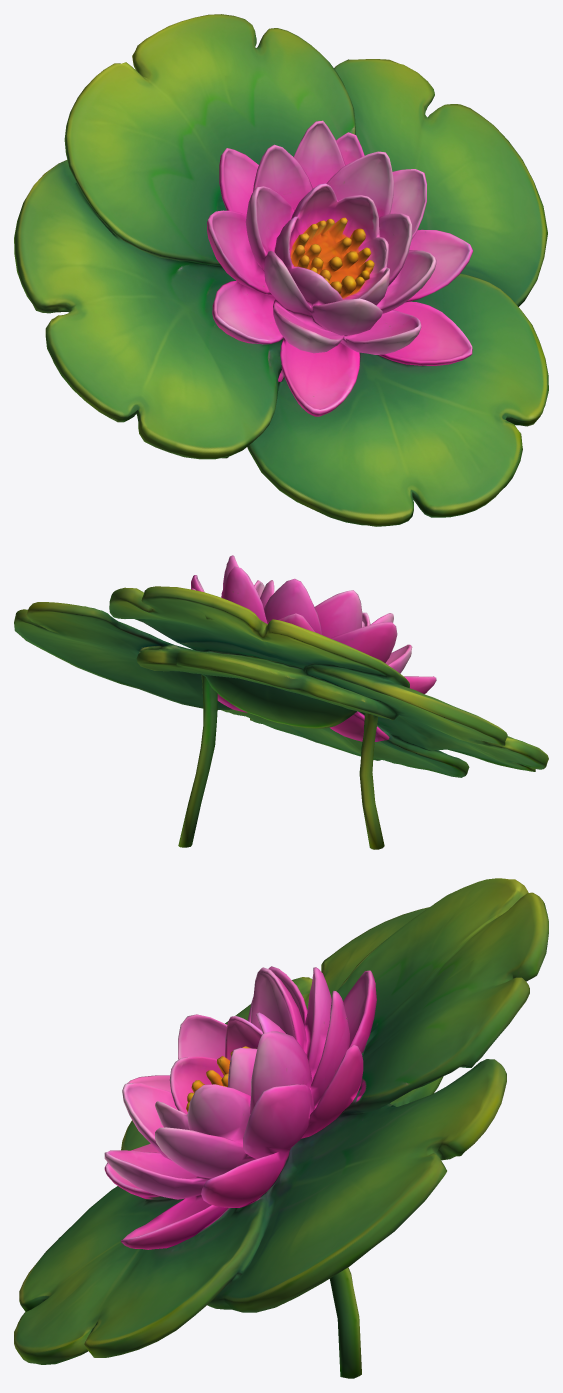
The model's file is lily_pad_pink_flower.glb.
3 views of the same model, one above another, from view 1: azimuth 30°, elevation 25°; view 2: azimuth 150°, elevation 25°; view 3: azimuth 270°, elevation 25° (orthographic). The views are drawn at different scales.
Parts seen in each view (by area): view 1: tripo_node_4ee85019-48cd-4c91-8044-74358c94e9be; view 2: tripo_node_4ee85019-48cd-4c91-8044-74358c94e9be; view 3: tripo_node_4ee85019-48cd-4c91-8044-74358c94e9be.
Part boxes in pixels (x1,y1,x2,y2): tripo_node_4ee85019-48cd-4c91-8044-74358c94e9be: (14,14,548,526); tripo_node_4ee85019-48cd-4c91-8044-74358c94e9be: (14,555,548,849); tripo_node_4ee85019-48cd-4c91-8044-74358c94e9be: (14,878,548,1378).
Size of the model in its own units: 0.9778 by 0.6449 by 0.7558.
Materials: 1 (1 with a texture image).
